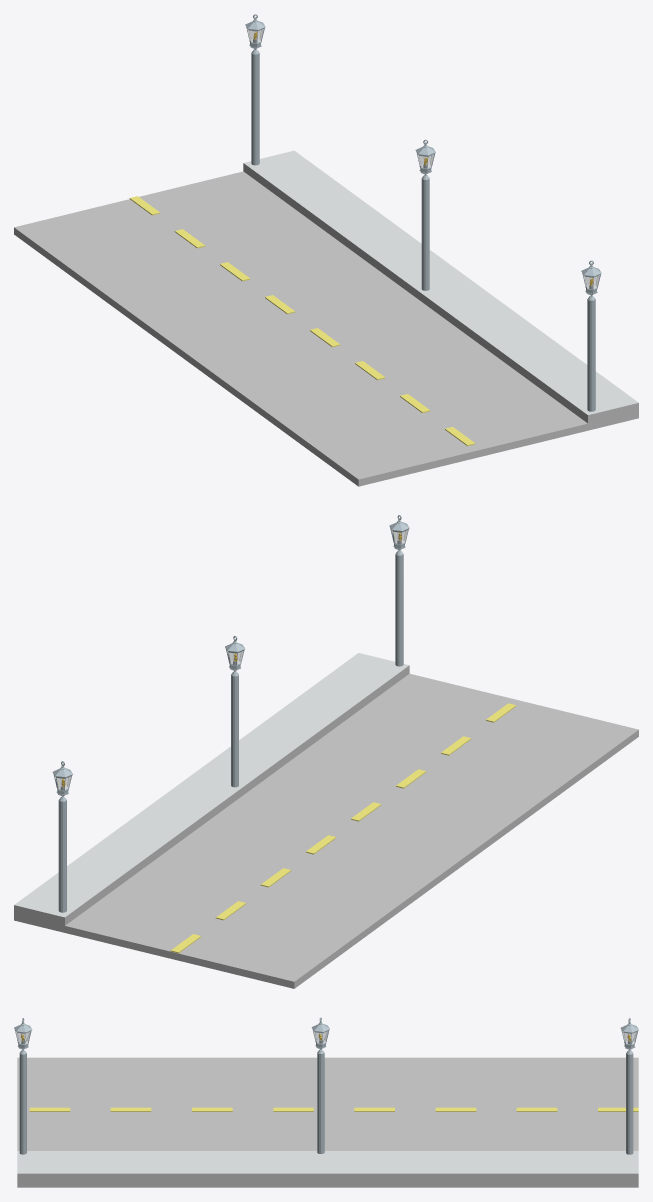
The model's file is road_with_sidewalk.glb.
3 views of the same model, one above another, from view 1: azimuth 30°, elevation 25°; view 2: azimuth 150°, elevation 25°; view 3: azimuth 270°, elevation 25° (orthographic). The views are drawn at different scales.
Parts seen in each view (by area): view 1: Node_ce83da, Node_7e0ed9, Node_3ff64f, Node_91c8b9; view 2: Node_ce83da, Node_7e0ed9, Node_3ff64f, Node_91c8b9; view 3: Node_ce83da, Node_7e0ed9, Node_3ff64f, Node_91c8b9, Node_2d9998.
Boxes of the visible parts, x1,y1,x2,y2 form: Node_ce83da: (14, 163, 638, 486); Node_7e0ed9: (244, 150, 638, 414); Node_3ff64f: (245, 14, 601, 411); Node_91c8b9: (129, 36, 592, 446); Node_ce83da: (14, 665, 638, 988); Node_7e0ed9: (14, 653, 409, 917); Node_3ff64f: (52, 515, 409, 912); Node_91c8b9: (61, 534, 516, 953); Node_ce83da: (17, 1057, 638, 1187); Node_7e0ed9: (17, 1151, 638, 1173); Node_3ff64f: (14, 1017, 638, 1154); Node_91c8b9: (22, 1035, 638, 1111); Node_2d9998: (16, 1031, 636, 1043).
Bounding box in the file's own units: 0.3526 × 0.2 × 0.7547.
